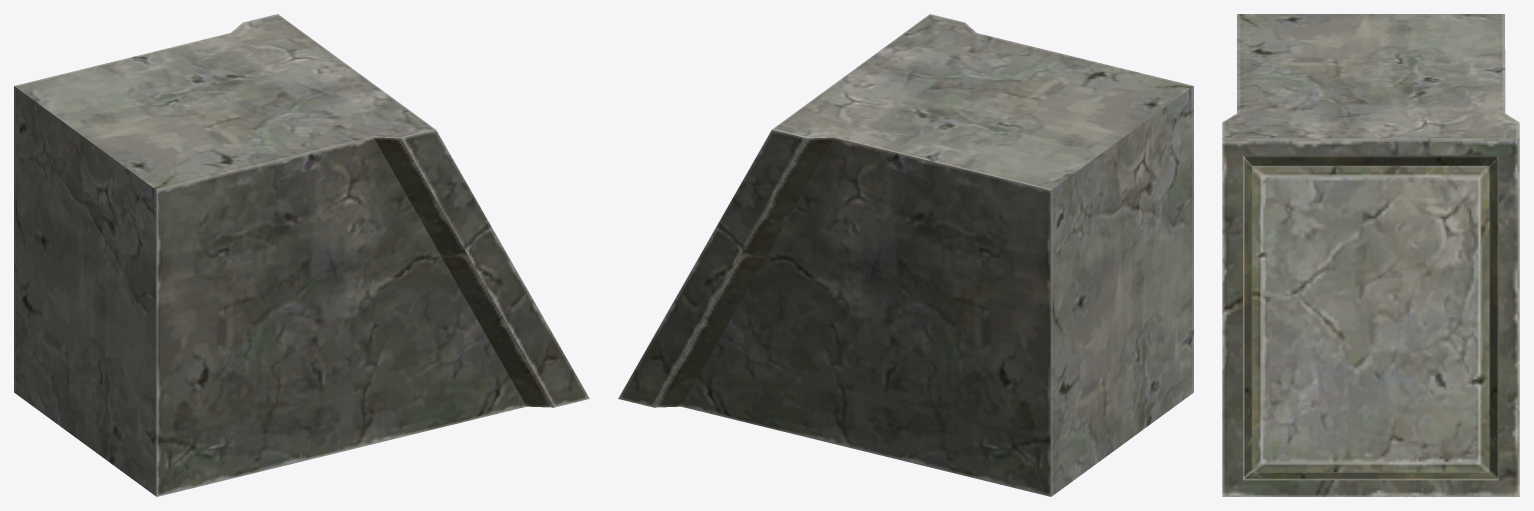
File: all_arch_rakata_wall_set03.glb
3 renders of one model, left to right at view 1: azimuth 30°, elevation 25°; view 2: azimuth 150°, elevation 25°; view 3: azimuth 270°, elevation 25°, orthographic. The views are drawn at different scales.
Parts seen in each view (by area): view 1: all_arch_rakata_wall_set03; view 2: all_arch_rakata_wall_set03; view 3: all_arch_rakata_wall_set03.
Boxes of the visible parts, bbox=[...] form: all_arch_rakata_wall_set03: bbox=[14, 14, 589, 496]; all_arch_rakata_wall_set03: bbox=[618, 14, 1193, 496]; all_arch_rakata_wall_set03: bbox=[1222, 14, 1519, 496].
Bounding box in the file's own units: 0.4656 × 0.3206 × 0.3.
Materials: 1 (1 with a texture image).
